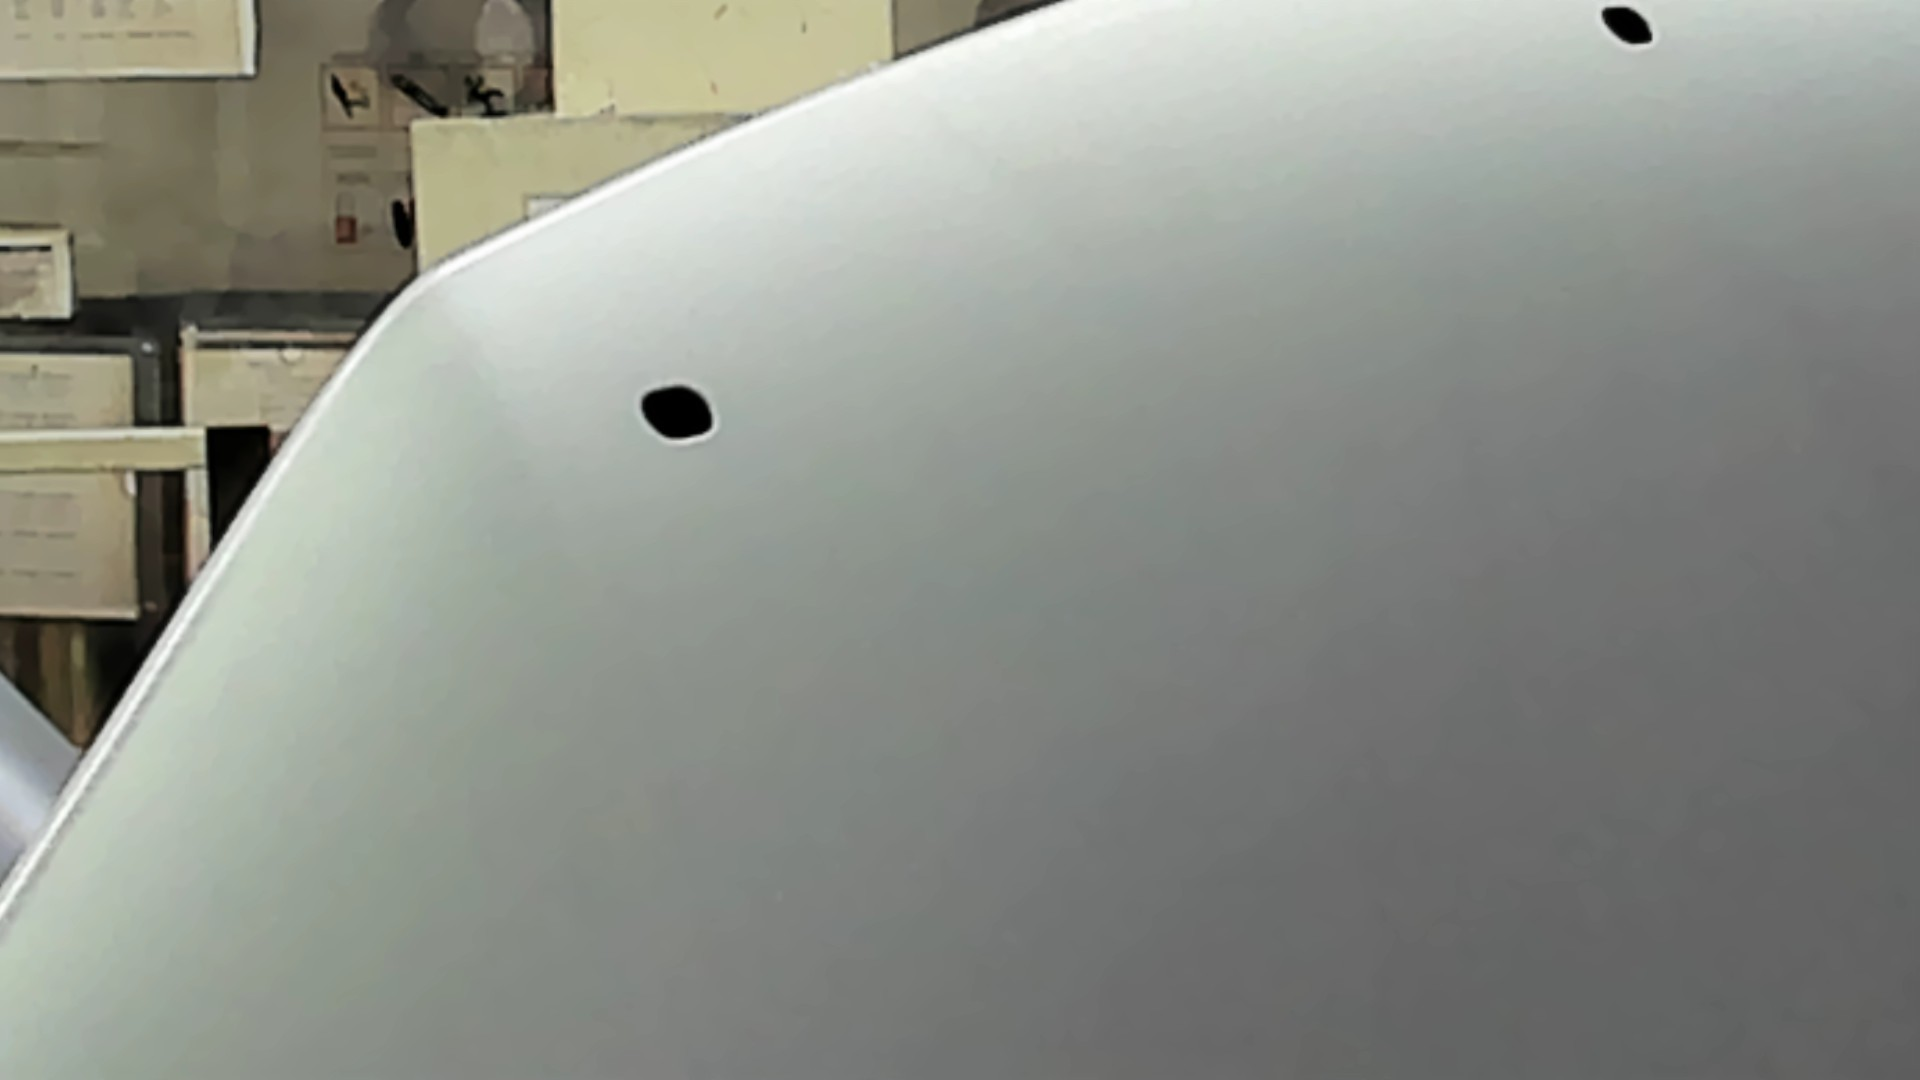amorfo: (628, 376, 725, 448), (1589, 1, 1664, 54)
